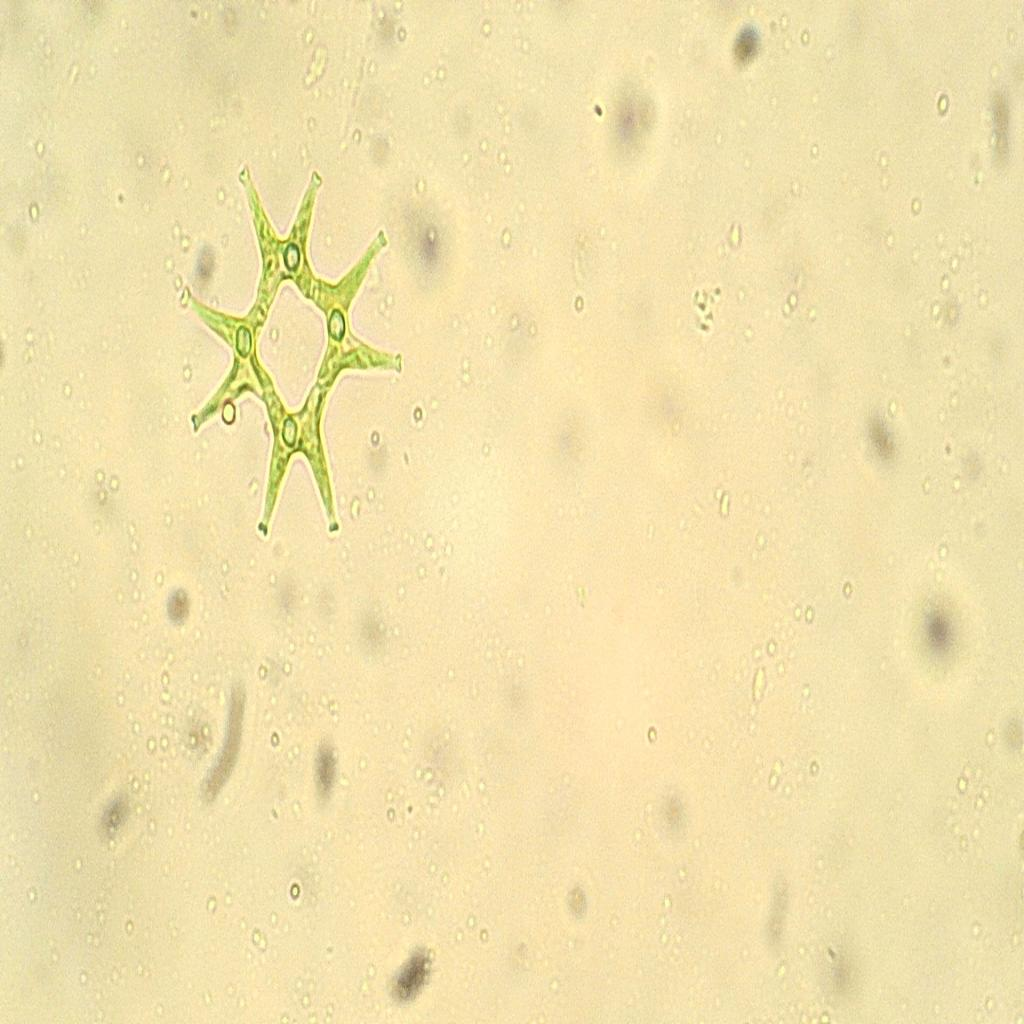Pediastrum_10: (168, 153, 412, 564)
